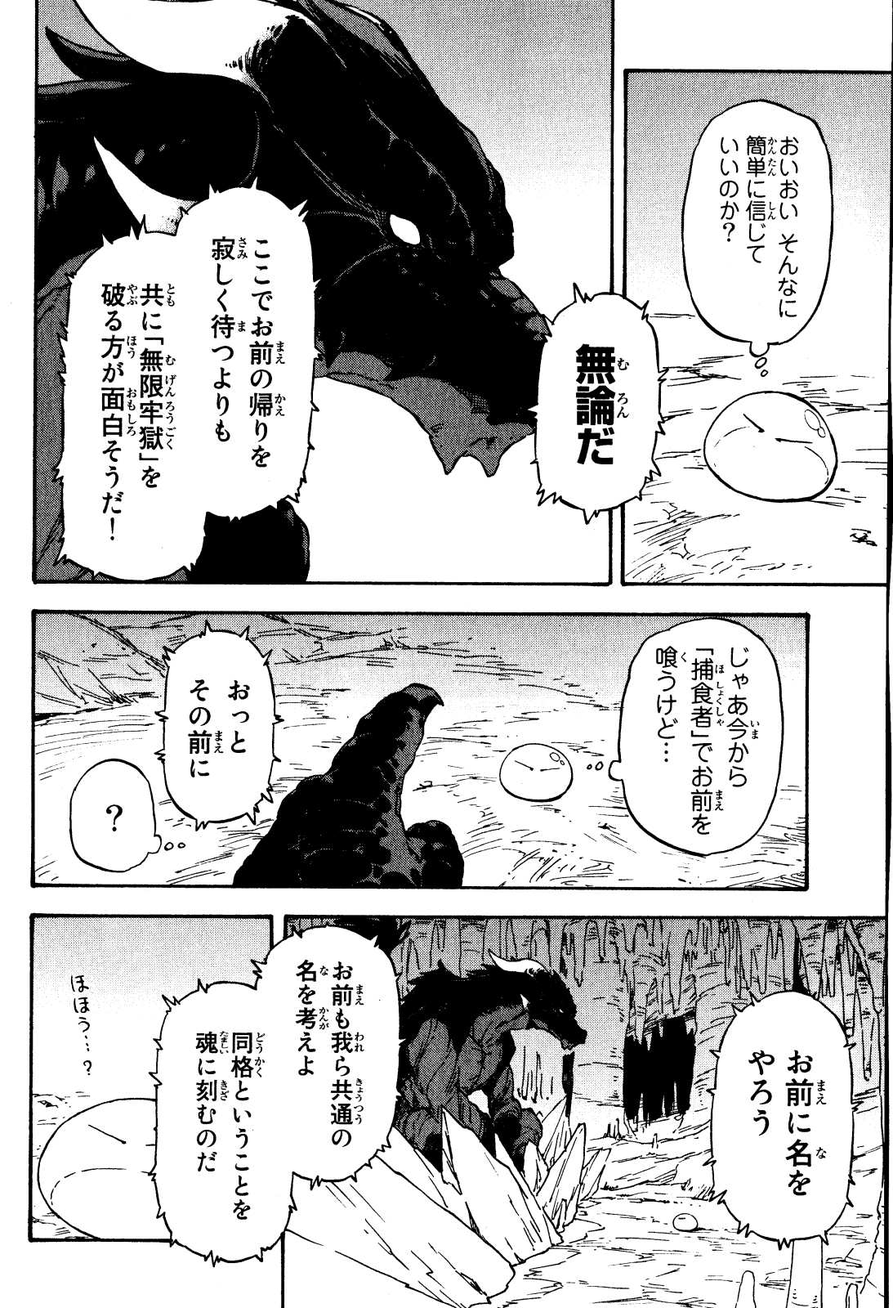bubbles: (47, 175, 332, 581), (144, 925, 413, 1270), (676, 97, 838, 385), (607, 616, 786, 864), (708, 978, 868, 1252), (524, 278, 668, 533), (153, 619, 287, 831), (64, 746, 163, 882)
